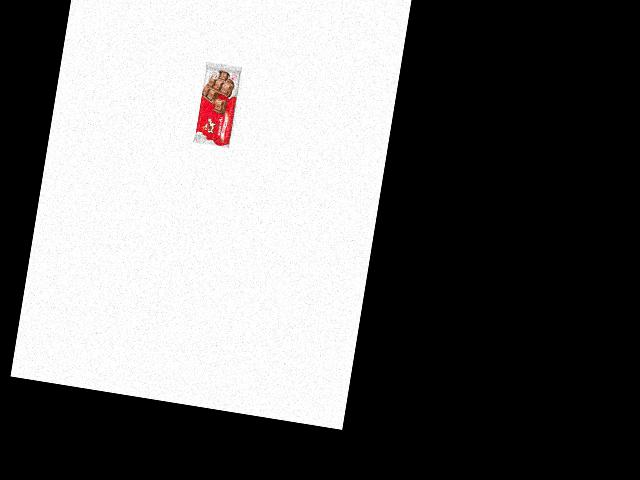chocolate: (192, 58, 242, 149)
